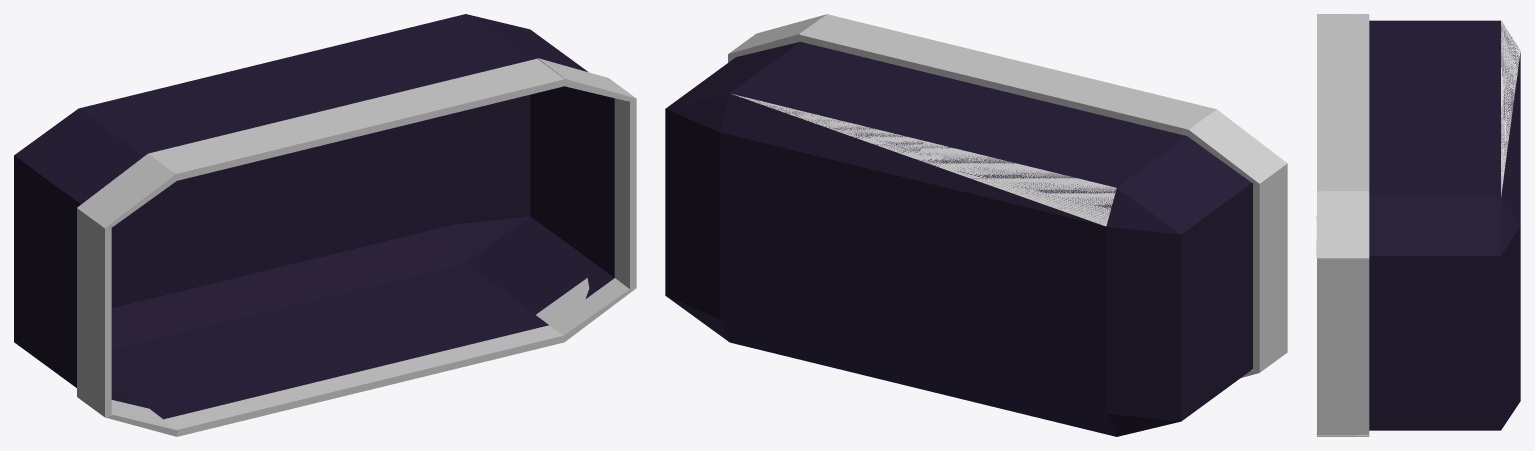
The model's file is base_branco.gltf.
3 renders of one model, left to right at view 1: azimuth 30°, elevation 25°; view 2: azimuth 150°, elevation 25°; view 3: azimuth 270°, elevation 25°, orthographic. The views are drawn at different scales.
Visible parts, largest first — view 1: caixote, faixa_frontal, faixa_lateral (×2), faixa_diagonal (×4), faixa_posterior; view 2: caixote, faixa_frontal, faixa_lateral, faixa_diagonal (×2); view 3: caixote, faixa_frontal, faixa_lateral, faixa_diagonal.
Boxes of the visible parts, x1,y1,x2,y2 form: caixote: (14, 14, 614, 419); faixa_frontal: (148, 58, 565, 180); faixa_lateral (×2): (77, 98, 636, 417); faixa_diagonal (×4): (77, 58, 636, 436); faixa_posterior: (164, 325, 564, 436); caixote: (665, 42, 1252, 436); faixa_frontal: (799, 14, 1216, 136); faixa_lateral: (1253, 163, 1287, 372); faixa_diagonal (×2): (728, 14, 1287, 183); caixote: (1369, 20, 1520, 430); faixa_frontal: (1317, 14, 1369, 191); faixa_lateral: (1317, 258, 1369, 434); faixa_diagonal: (1317, 191, 1369, 258).
Size of the model in its own units: 29.9 by 14.19 by 10.65.
